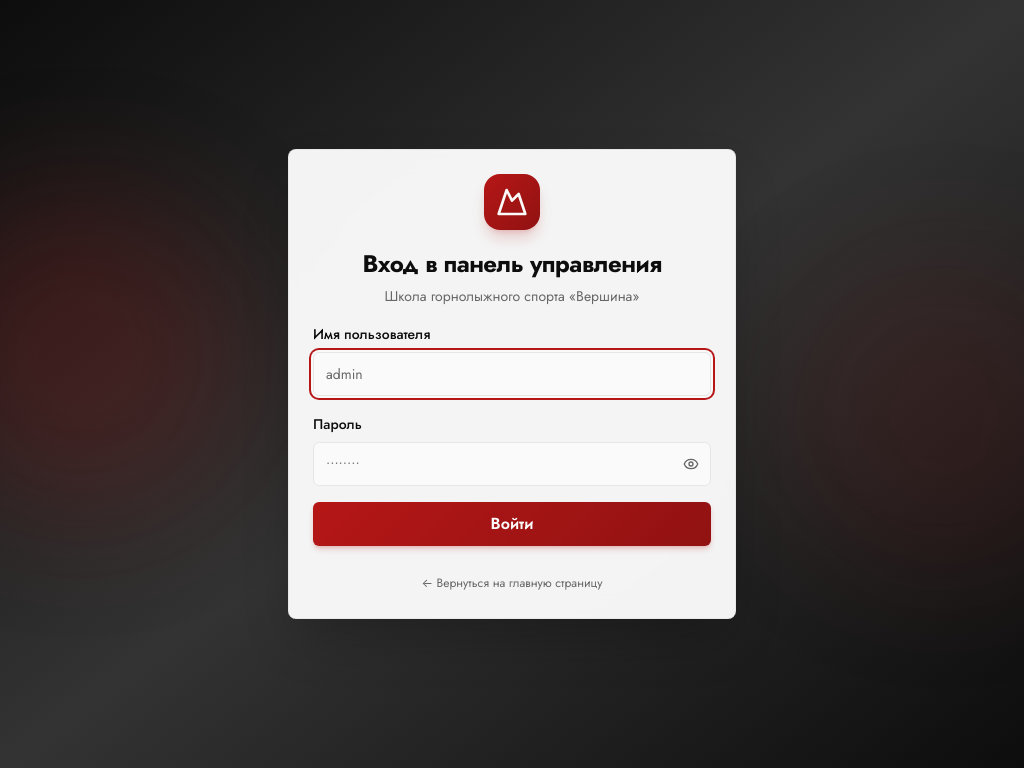
Test case: Admin Page - Authentication & Dashboard Orchestration › shows error message when login fails with invalid credentials
This screenshot has width=1024, height=768.
Expected: the text "Вход в панель управления" is shown, [362, 246, 662, 281]
Type "wrong" into the field labelled "Имя пользователя" at {"x": 512, "y": 374}, box [313, 352, 711, 396]
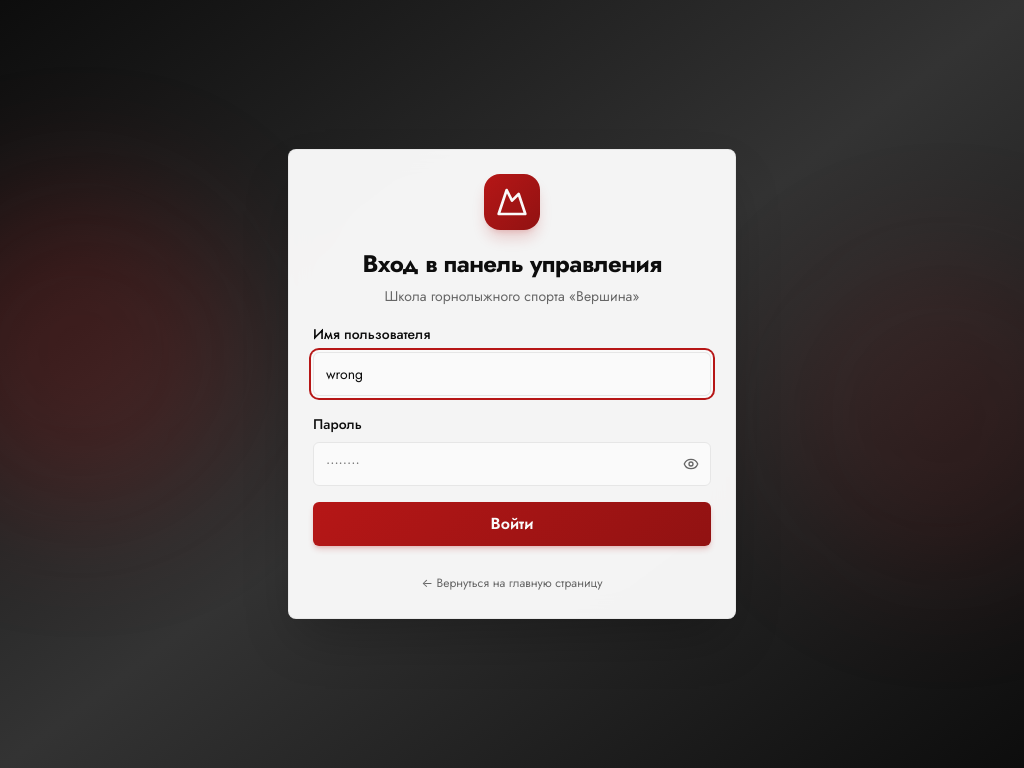
Type "wrongpass" into the password field labelled "Пароль" at {"x": 512, "y": 464}, box [313, 442, 711, 486]
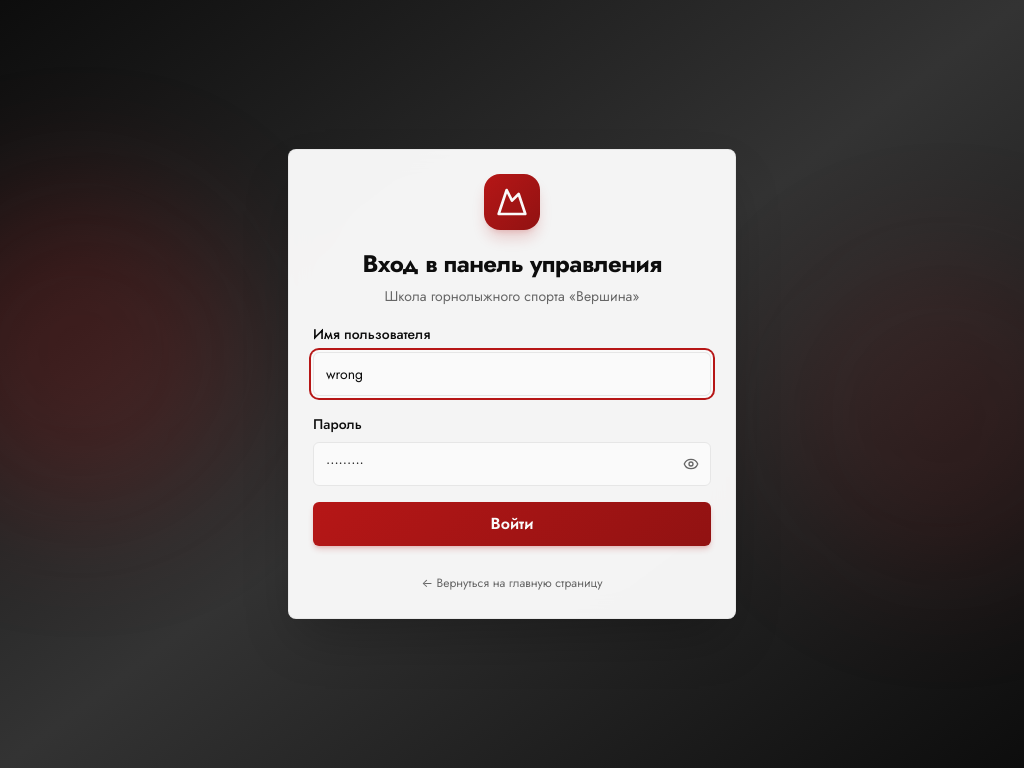
Click the button "Войти" at {"x": 512, "y": 524}, box [313, 502, 711, 546]
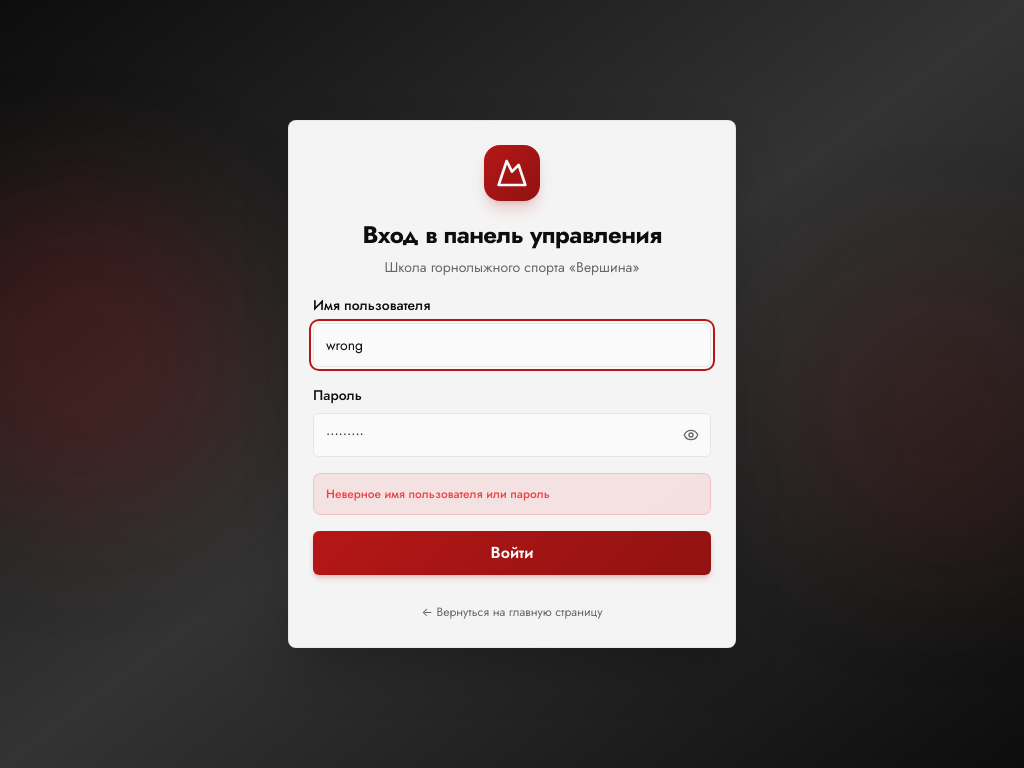
Expected: the text "Неверное имя пользователя или пароль" is shown, [313, 473, 711, 515]
